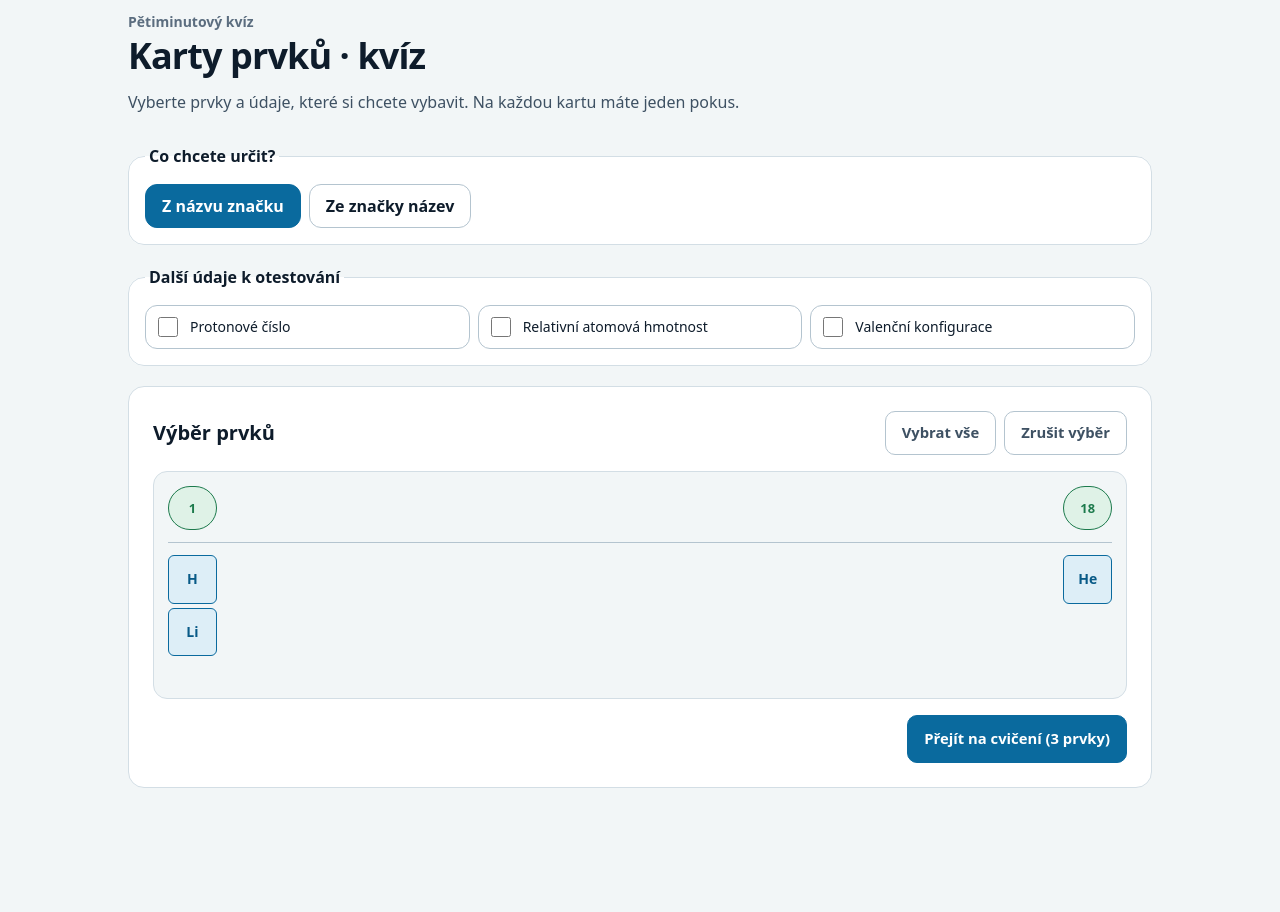
it: ElementFlashcardPractice › uses the shared element selection, shuffles cards, and grades a typed symbol
Click the button with aria-label "Lithium (Li)" at (192, 632), box 168,608 -> 217,656
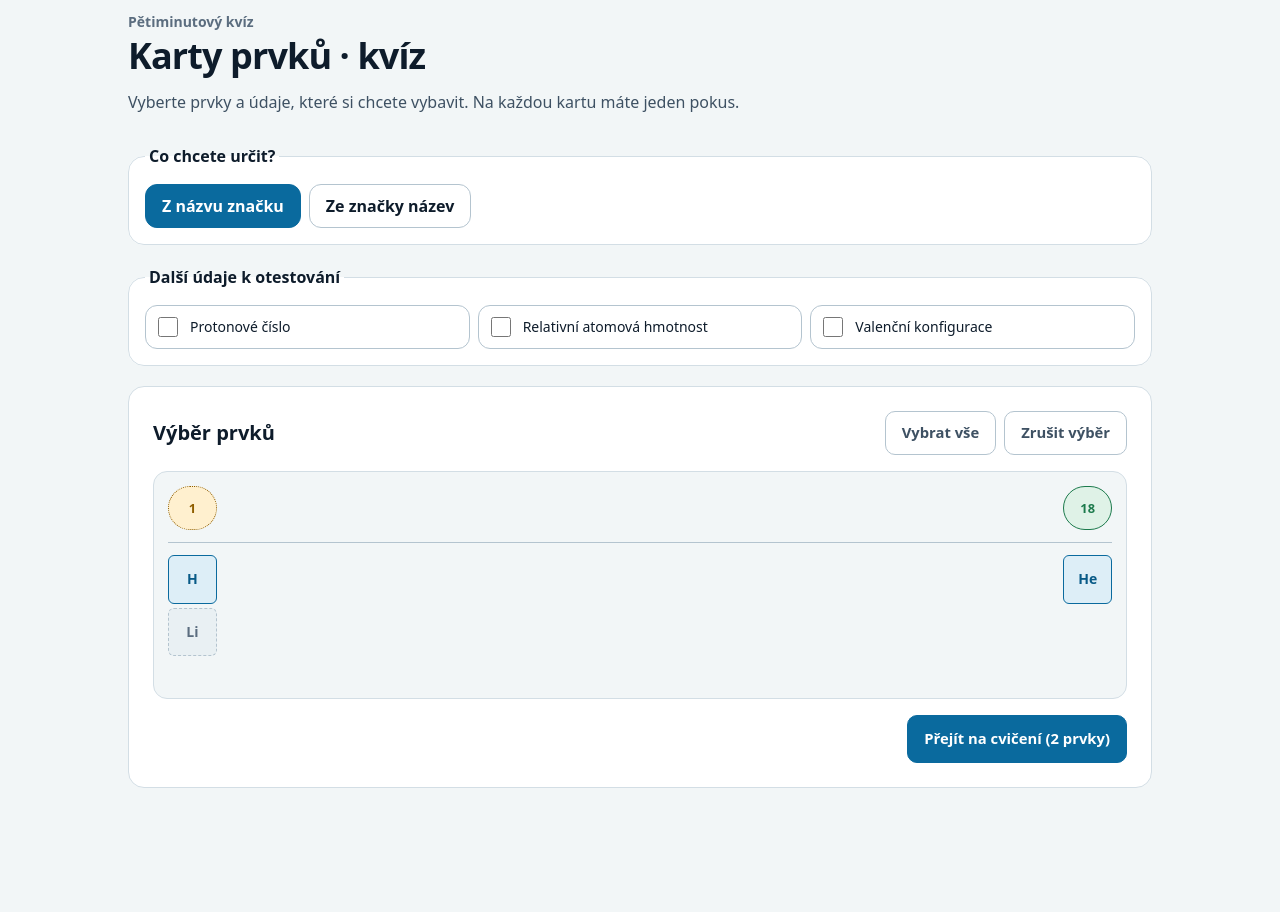
Click the button "Přejít na cvičení (2 prvky)" at (1017, 739), box 907,715 -> 1127,763
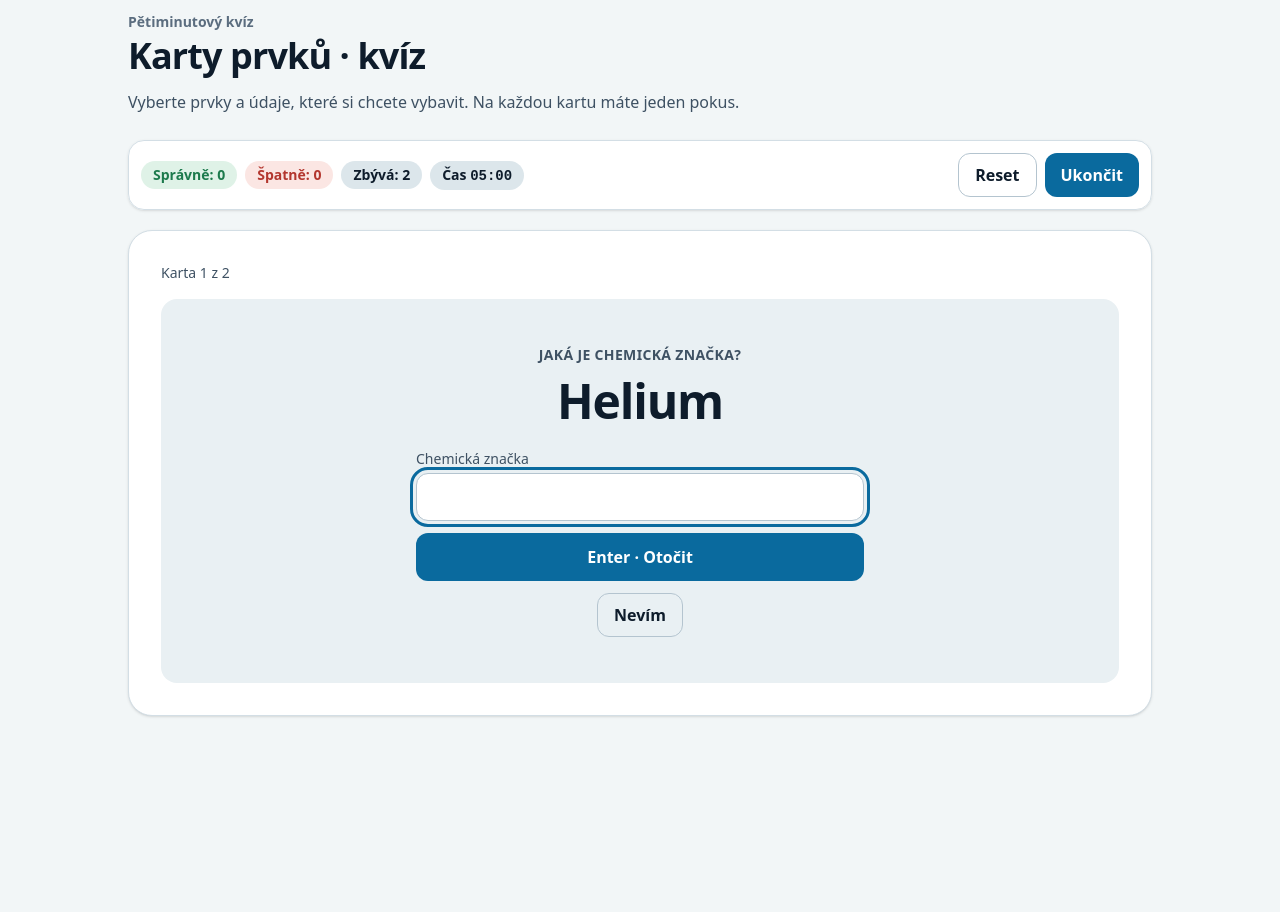
Expected: the text "Vzácné plyny" is not shown
Expected: the text "05:00" is shown, 470,168 -> 512,184
Expected: the heading "Helium" is shown, 557,377 -> 723,425
Type "He" into the field labelled "Chemická značka" at (640, 497), box 416,473 -> 864,521
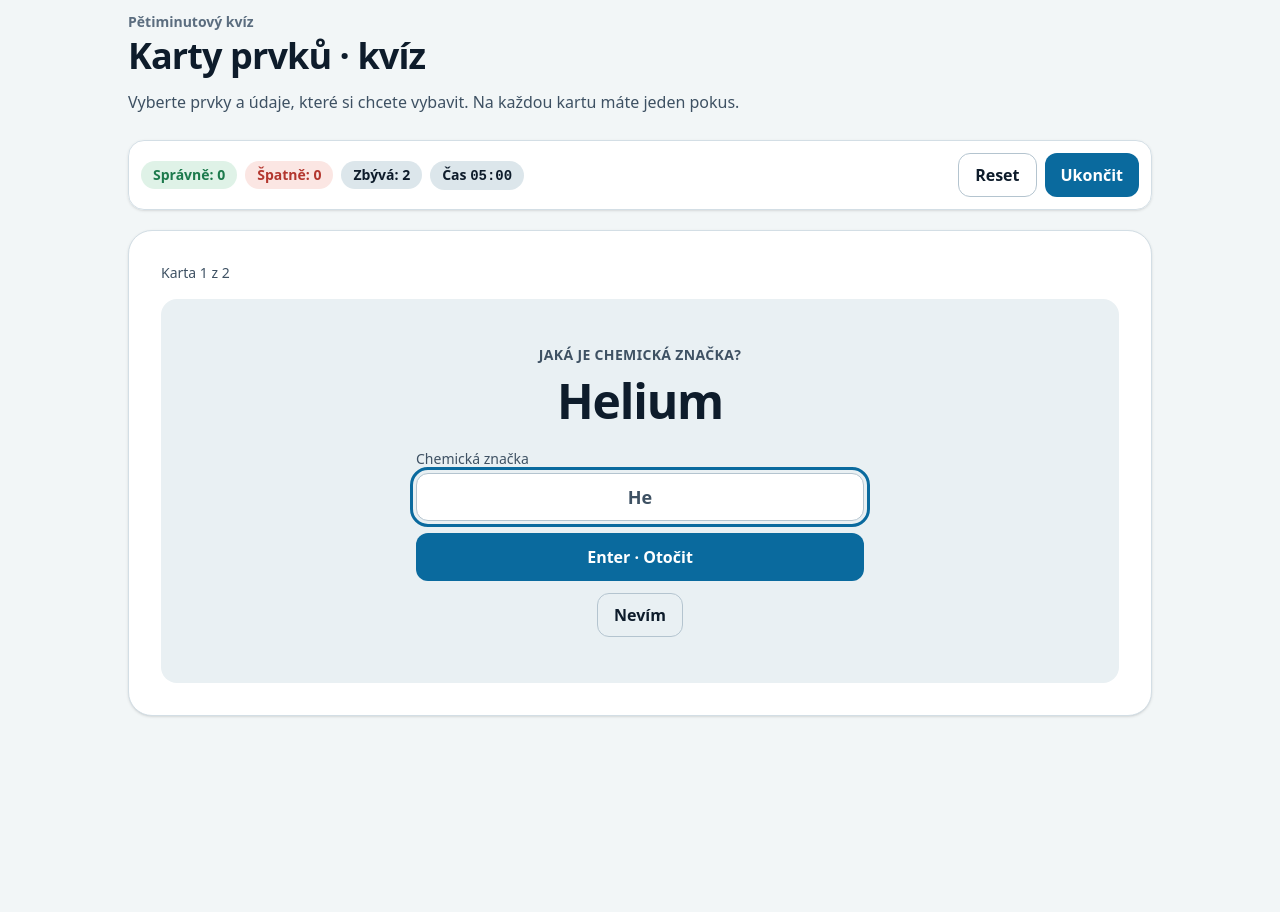
Submit the form "Chemická značka", box 416,449 -> 864,581
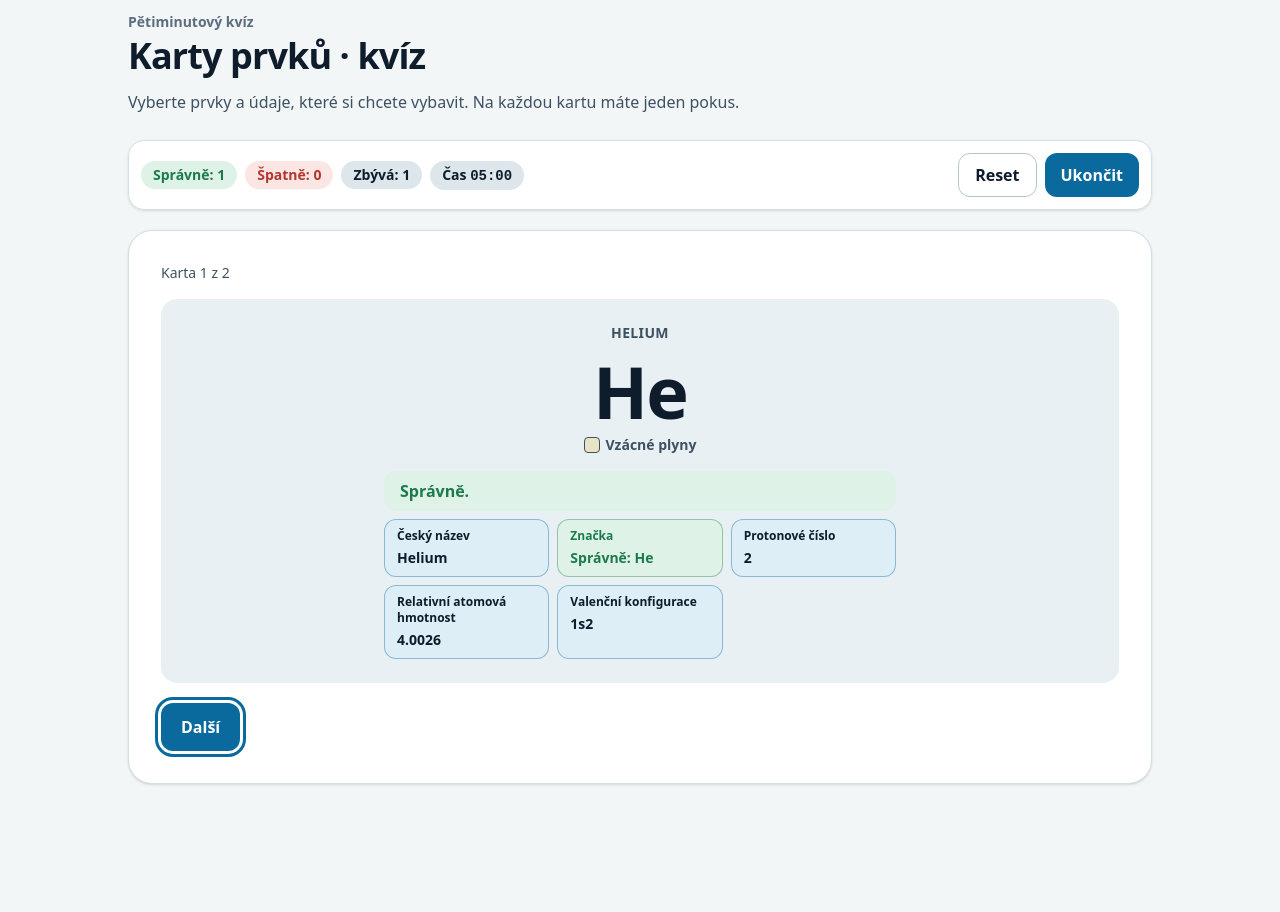
Expected: the message shows "Správně.", 400,480 -> 469,502
Expected: the message shows "Správně: He", 570,548 -> 654,567
Expected: the text "Vzácné plyny" is shown, 606,435 -> 696,455
